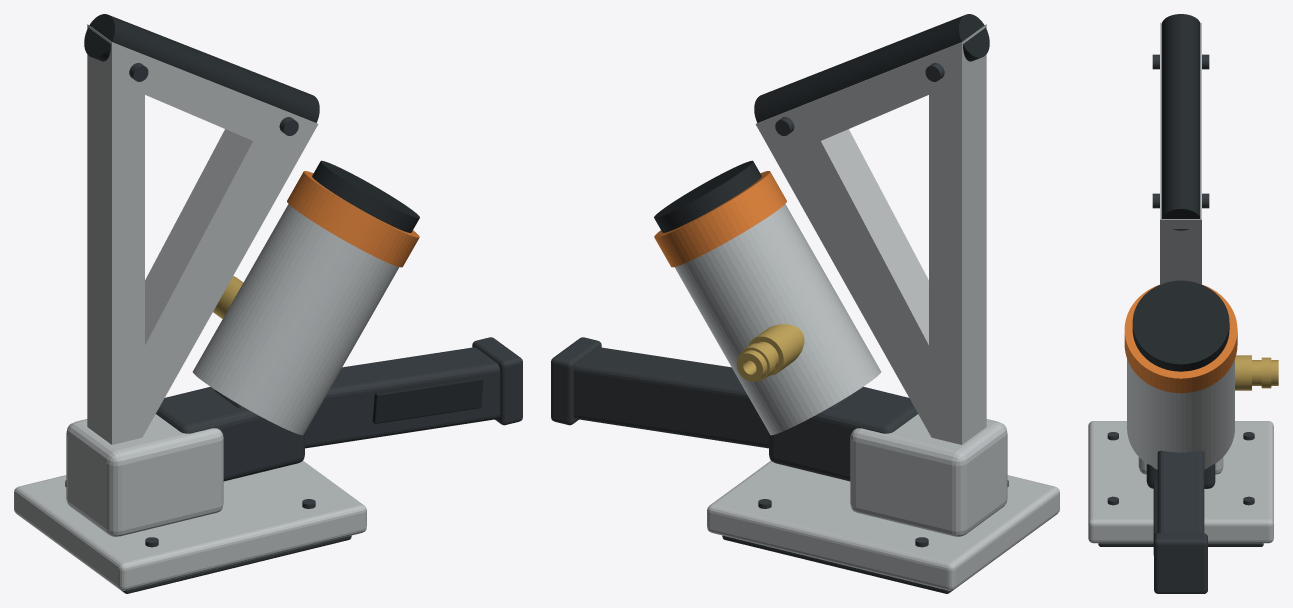
Rendered from full.glb.
3 views of the same model, side by side, from view 1: azimuth 30°, elevation 25°; view 2: azimuth 150°, elevation 25°; view 3: azimuth 270°, elevation 25° (orthographic). The views are drawn at different scales.
Visible parts, largest first — view 1: Tall cast column with triangular opening, Inclined drive housing, Wide flat flooring shoe, Nose pedestal, Long black fastener magazine, Magazine nose bridge, Upper black handle, Orange mallet strike collar, Magazine side inset, Black mallet strike pad, Magazine end latch, Shoe underside wear plate; view 2: Tall cast column with triangular opening, Inclined drive housing, Wide flat flooring shoe, Nose pedestal, Long black fastener magazine, Magazine nose bridge, Upper black handle, Orange mallet strike collar, Black mallet strike pad, Magazine end latch, Air connector shoulder, Shoe underside wear plate (+1 smaller); view 3: Wide flat flooring shoe, Upper black handle, Inclined drive housing, Black mallet strike pad, Long black fastener magazine, Tall cast column with triangular opening, Orange mallet strike collar, Magazine end latch, Air connector shoulder, Magazine nose bridge, Air quick connector sleeve, Shoe underside wear plate (+2 smaller).
Boxes of the visible parts, left/top/right/bottom form: Tall cast column with triangular opening: left=87, top=24, right=318, bottom=444; Inclined drive housing: left=192, top=204, right=399, bottom=435; Wide flat flooring shoe: left=14, top=461, right=366, bottom=590; Nose pedestal: left=66, top=414, right=223, bottom=536; Long black fastener magazine: left=215, top=347, right=500, bottom=448; Magazine nose bridge: left=156, top=386, right=304, bottom=481; Upper black handle: left=84, top=14, right=319, bottom=122; Orange mallet strike collar: left=287, top=171, right=419, bottom=267; Magazine side inset: left=372, top=377, right=483, bottom=423; Black mallet strike pad: left=312, top=160, right=419, bottom=232; Magazine end latch: left=472, top=337, right=522, bottom=425; Shoe underside wear plate: left=121, top=535, right=351, bottom=593; Tall cast column with triangular opening: left=755, top=24, right=986, bottom=444; Inclined drive housing: left=674, top=204, right=881, bottom=435; Wide flat flooring shoe: left=707, top=461, right=1059, bottom=590; Nose pedestal: left=850, top=414, right=1007, bottom=536; Long black fastener magazine: left=573, top=347, right=858, bottom=448; Magazine nose bridge: left=769, top=386, right=917, bottom=481; Upper black handle: left=754, top=14, right=989, bottom=122; Orange mallet strike collar: left=654, top=171, right=786, bottom=267; Black mallet strike pad: left=654, top=160, right=761, bottom=232; Magazine end latch: left=551, top=337, right=601, bottom=425; Air connector shoulder: left=748, top=324, right=804, bottom=375; Shoe underside wear plate: left=722, top=535, right=952, bottom=593; Wide flat flooring shoe: left=1088, top=421, right=1273, bottom=543; Upper black handle: left=1161, top=14, right=1200, bottom=230; Inclined drive housing: left=1127, top=359, right=1234, bottom=469; Black mallet strike pad: left=1132, top=280, right=1229, bottom=371; Long black fastener magazine: left=1157, top=450, right=1204, bottom=533; Tall cast column with triangular opening: left=1160, top=22, right=1201, bottom=284; Orange mallet strike collar: left=1124, top=284, right=1237, bottom=393; Magazine end latch: left=1154, top=533, right=1207, bottom=593; Air connector shoulder: left=1235, top=355, right=1251, bottom=390; Magazine nose bridge: left=1146, top=464, right=1215, bottom=488; Air quick connector sleeve: left=1252, top=360, right=1278, bottom=385; Shoe underside wear plate: left=1098, top=543, right=1263, bottom=546.
Size of the model in its own units: 0.5355 by 0.6205 by 0.236.
